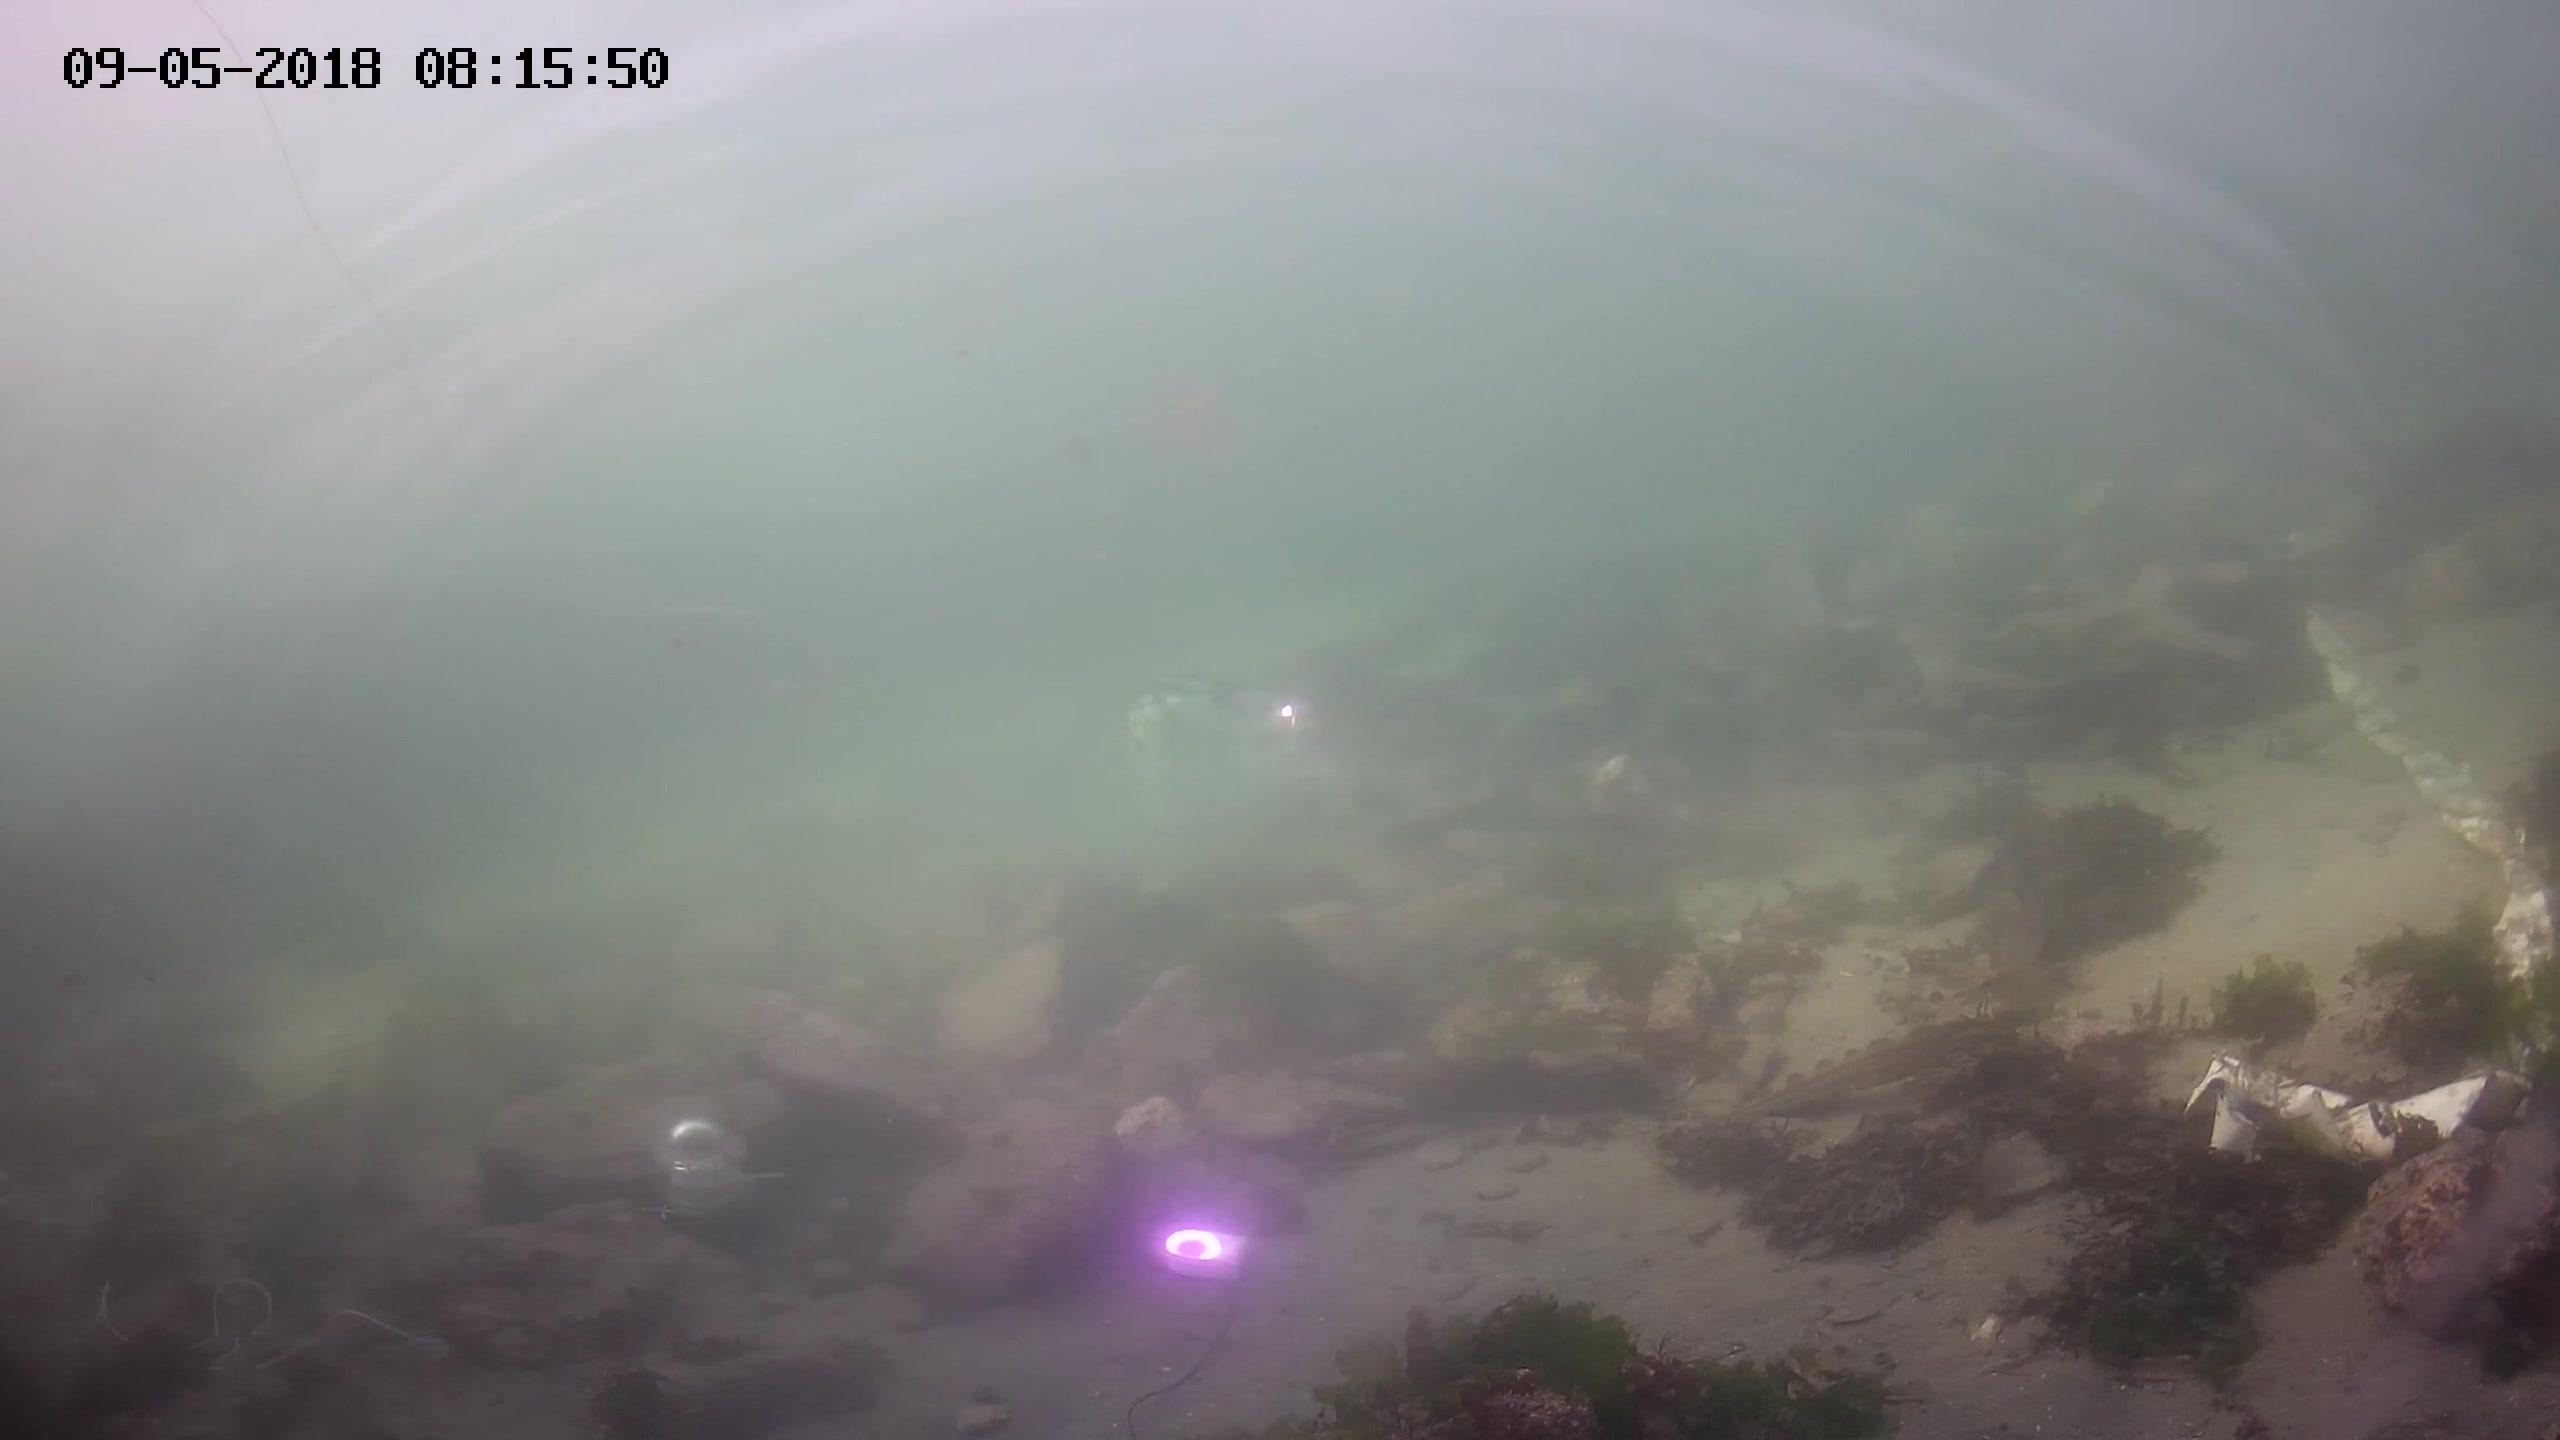scallop: (1407, 1132, 1468, 1167), (951, 1400, 1007, 1435), (1419, 1271, 1470, 1305), (1475, 1167, 1528, 1197)
